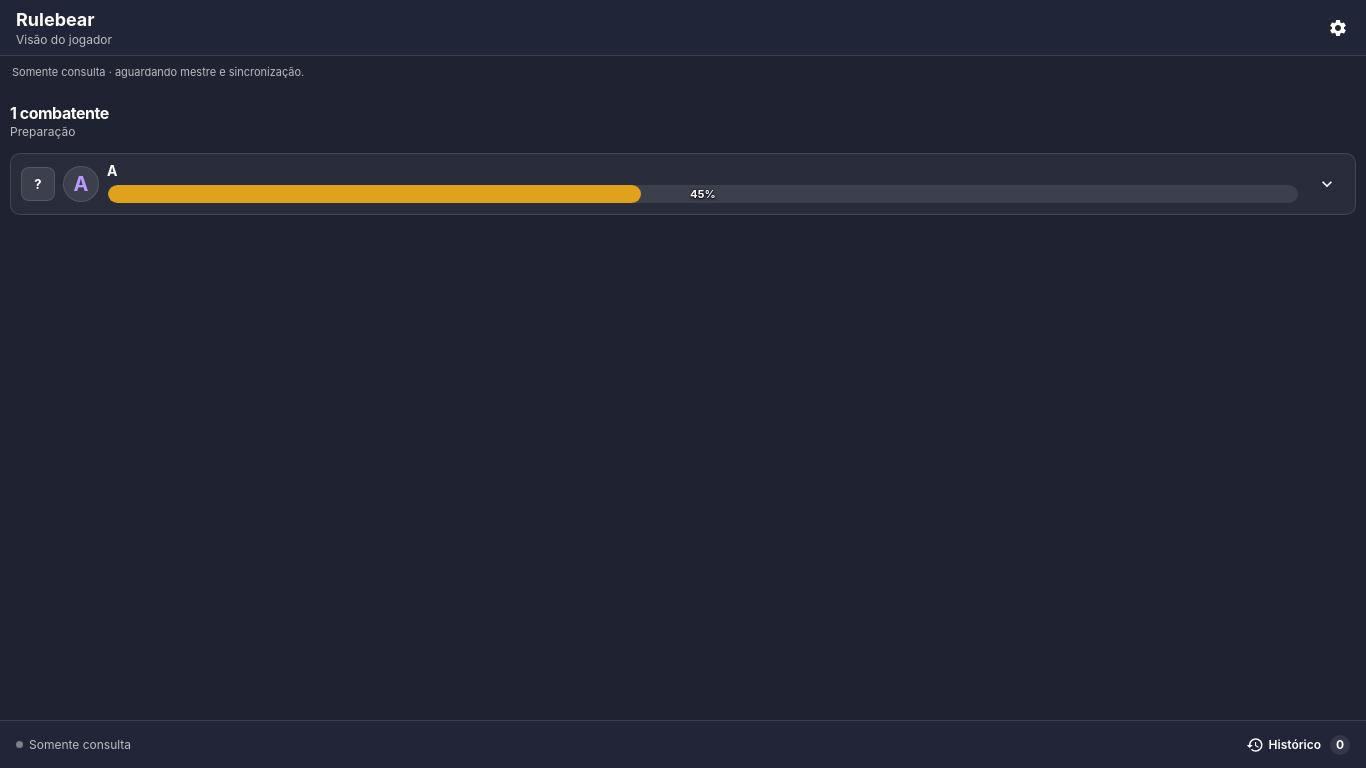
Scenario: painel de jogadores › permite escolher operação de condição sem revelar condições aplicadas
Click the button named "Detalhes de A".
click(1327, 184)  # box [1307,164,1347,204]
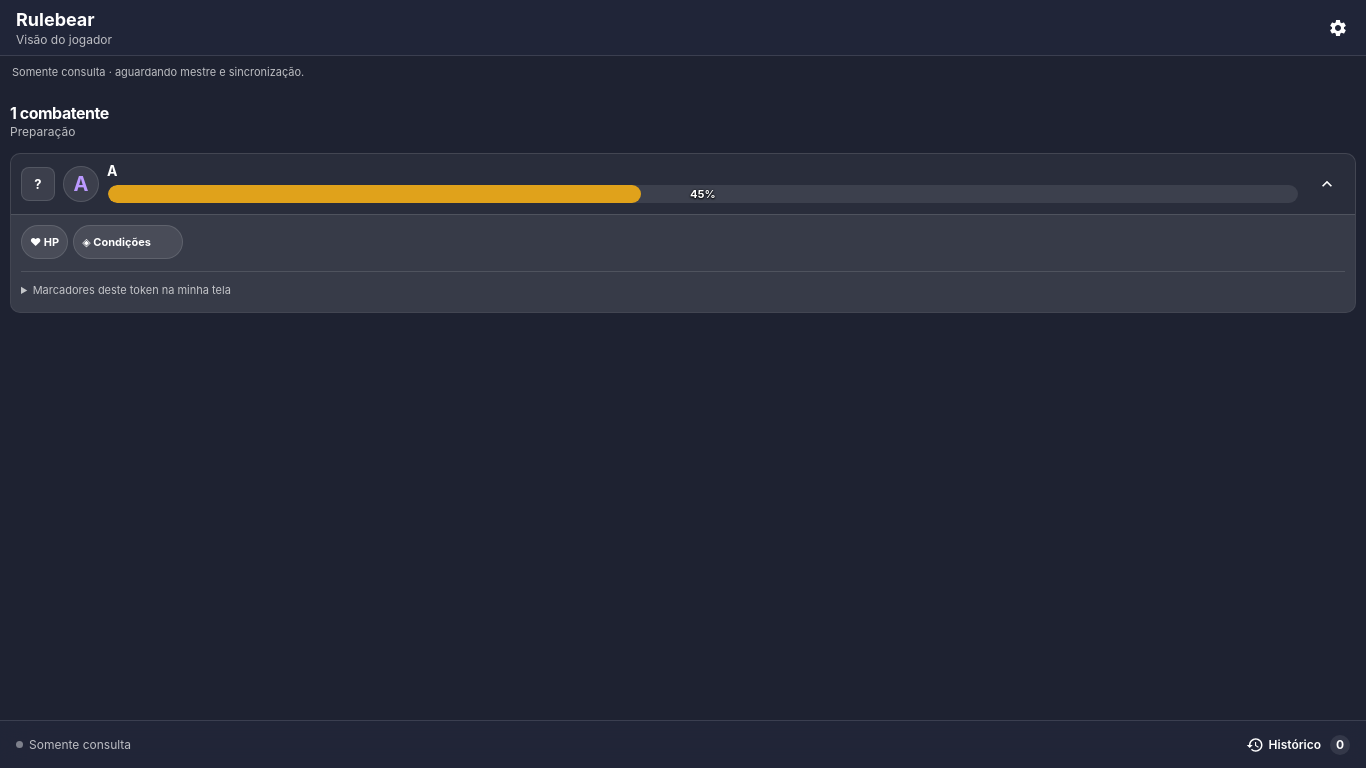
Click the button "◈ Condições".
click(128, 242)  # box [73,225,183,259]
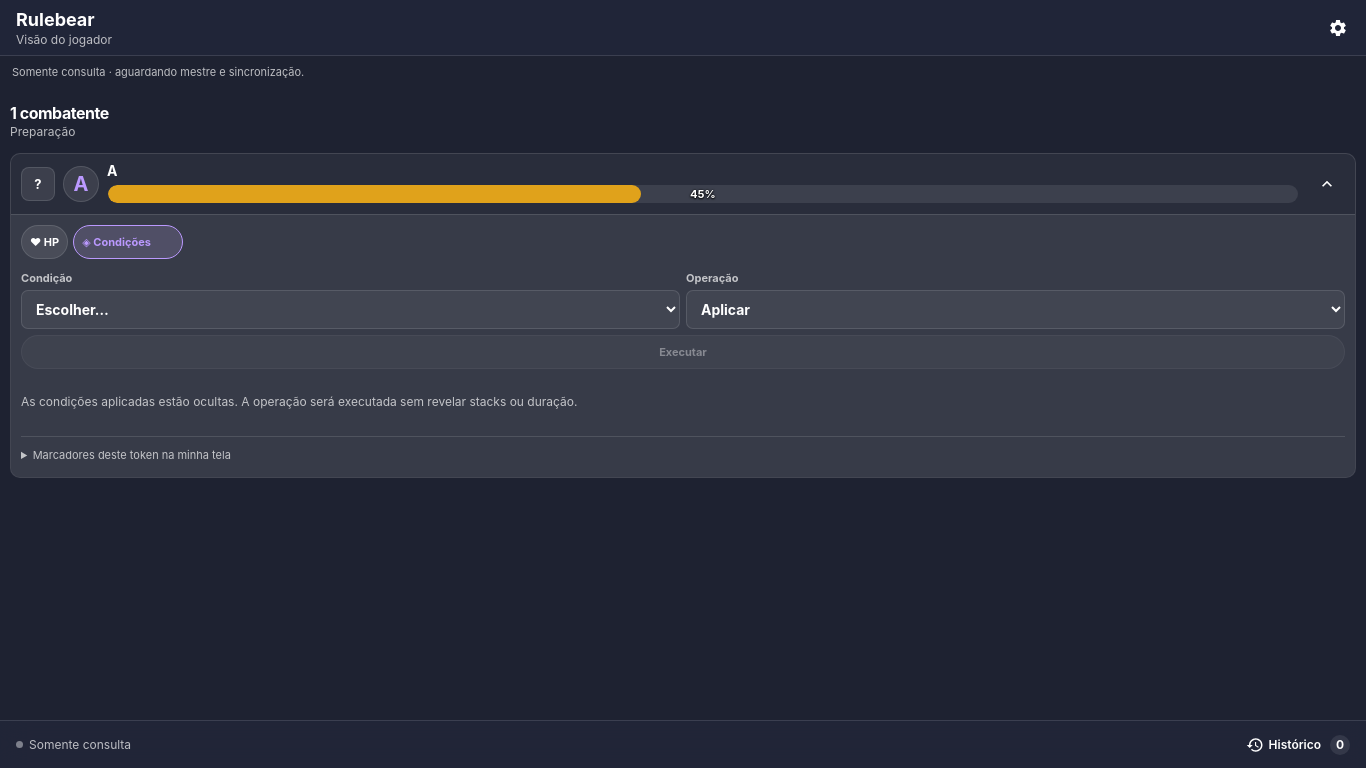
Result: the dropdown labelled "Operação" is shown at [686,290,1345,329]
Result: the text "condições aplicadas estão ocultas" is shown at [21,394,577,409]
